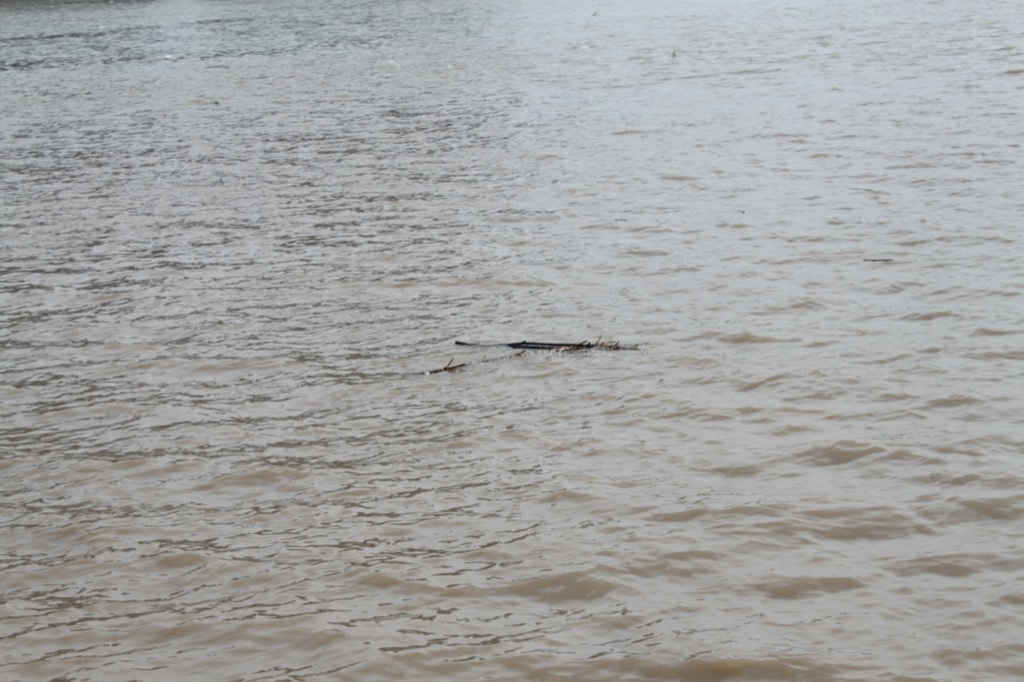organic: (444, 321, 655, 361), (414, 345, 529, 389)
